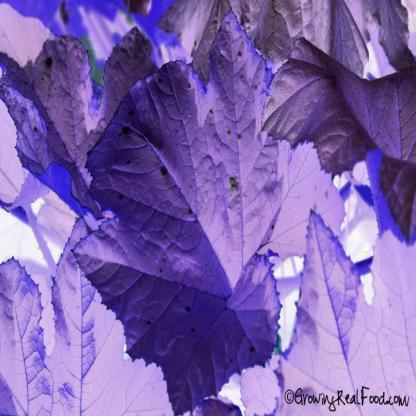Squash Powdery mildew leaf: (68, 20, 345, 405)
